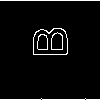B: (25, 25, 67, 58)
